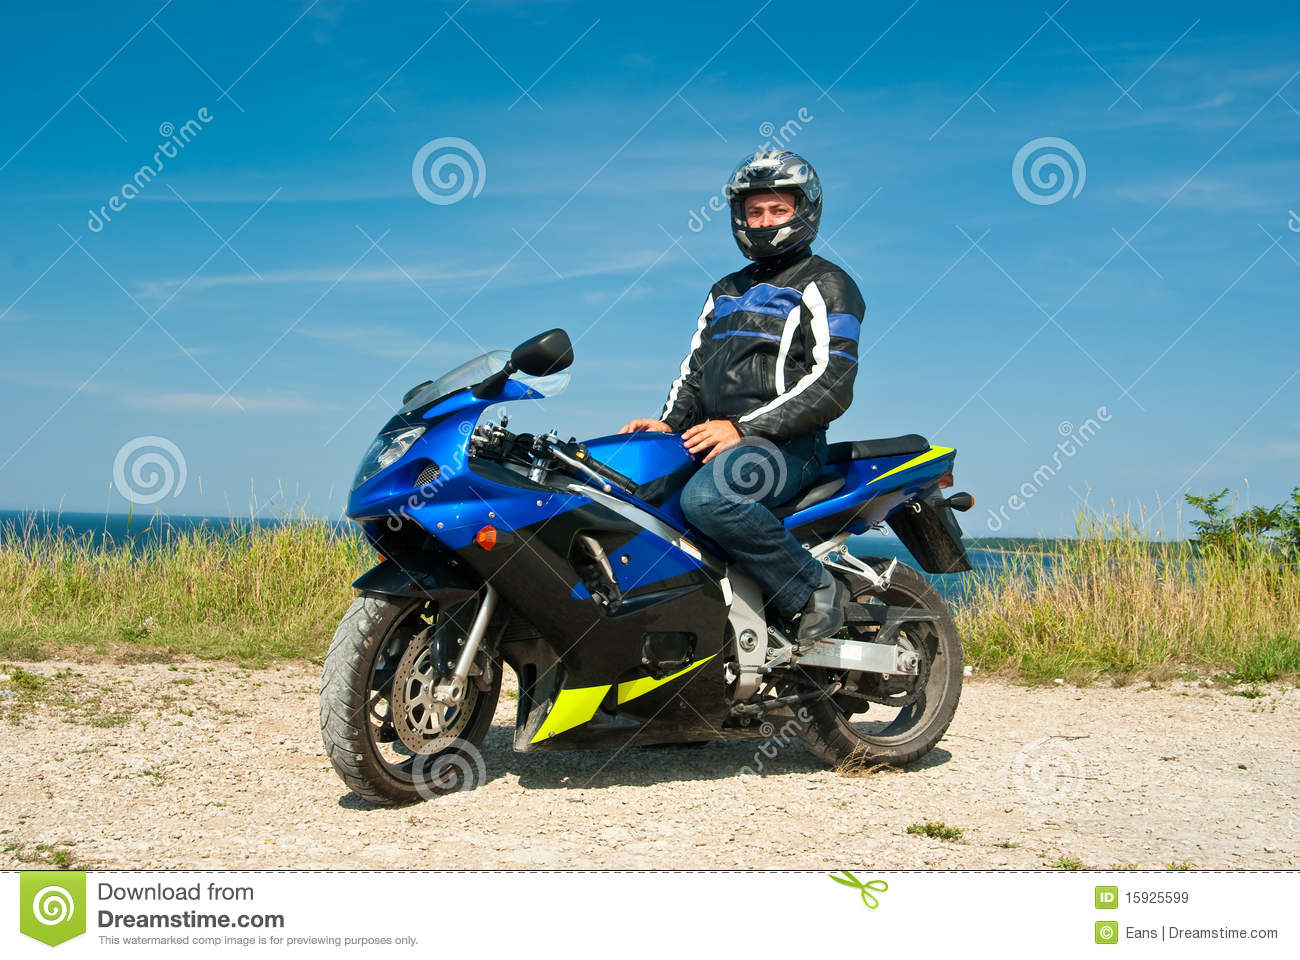helmet: (730, 142, 829, 255)
